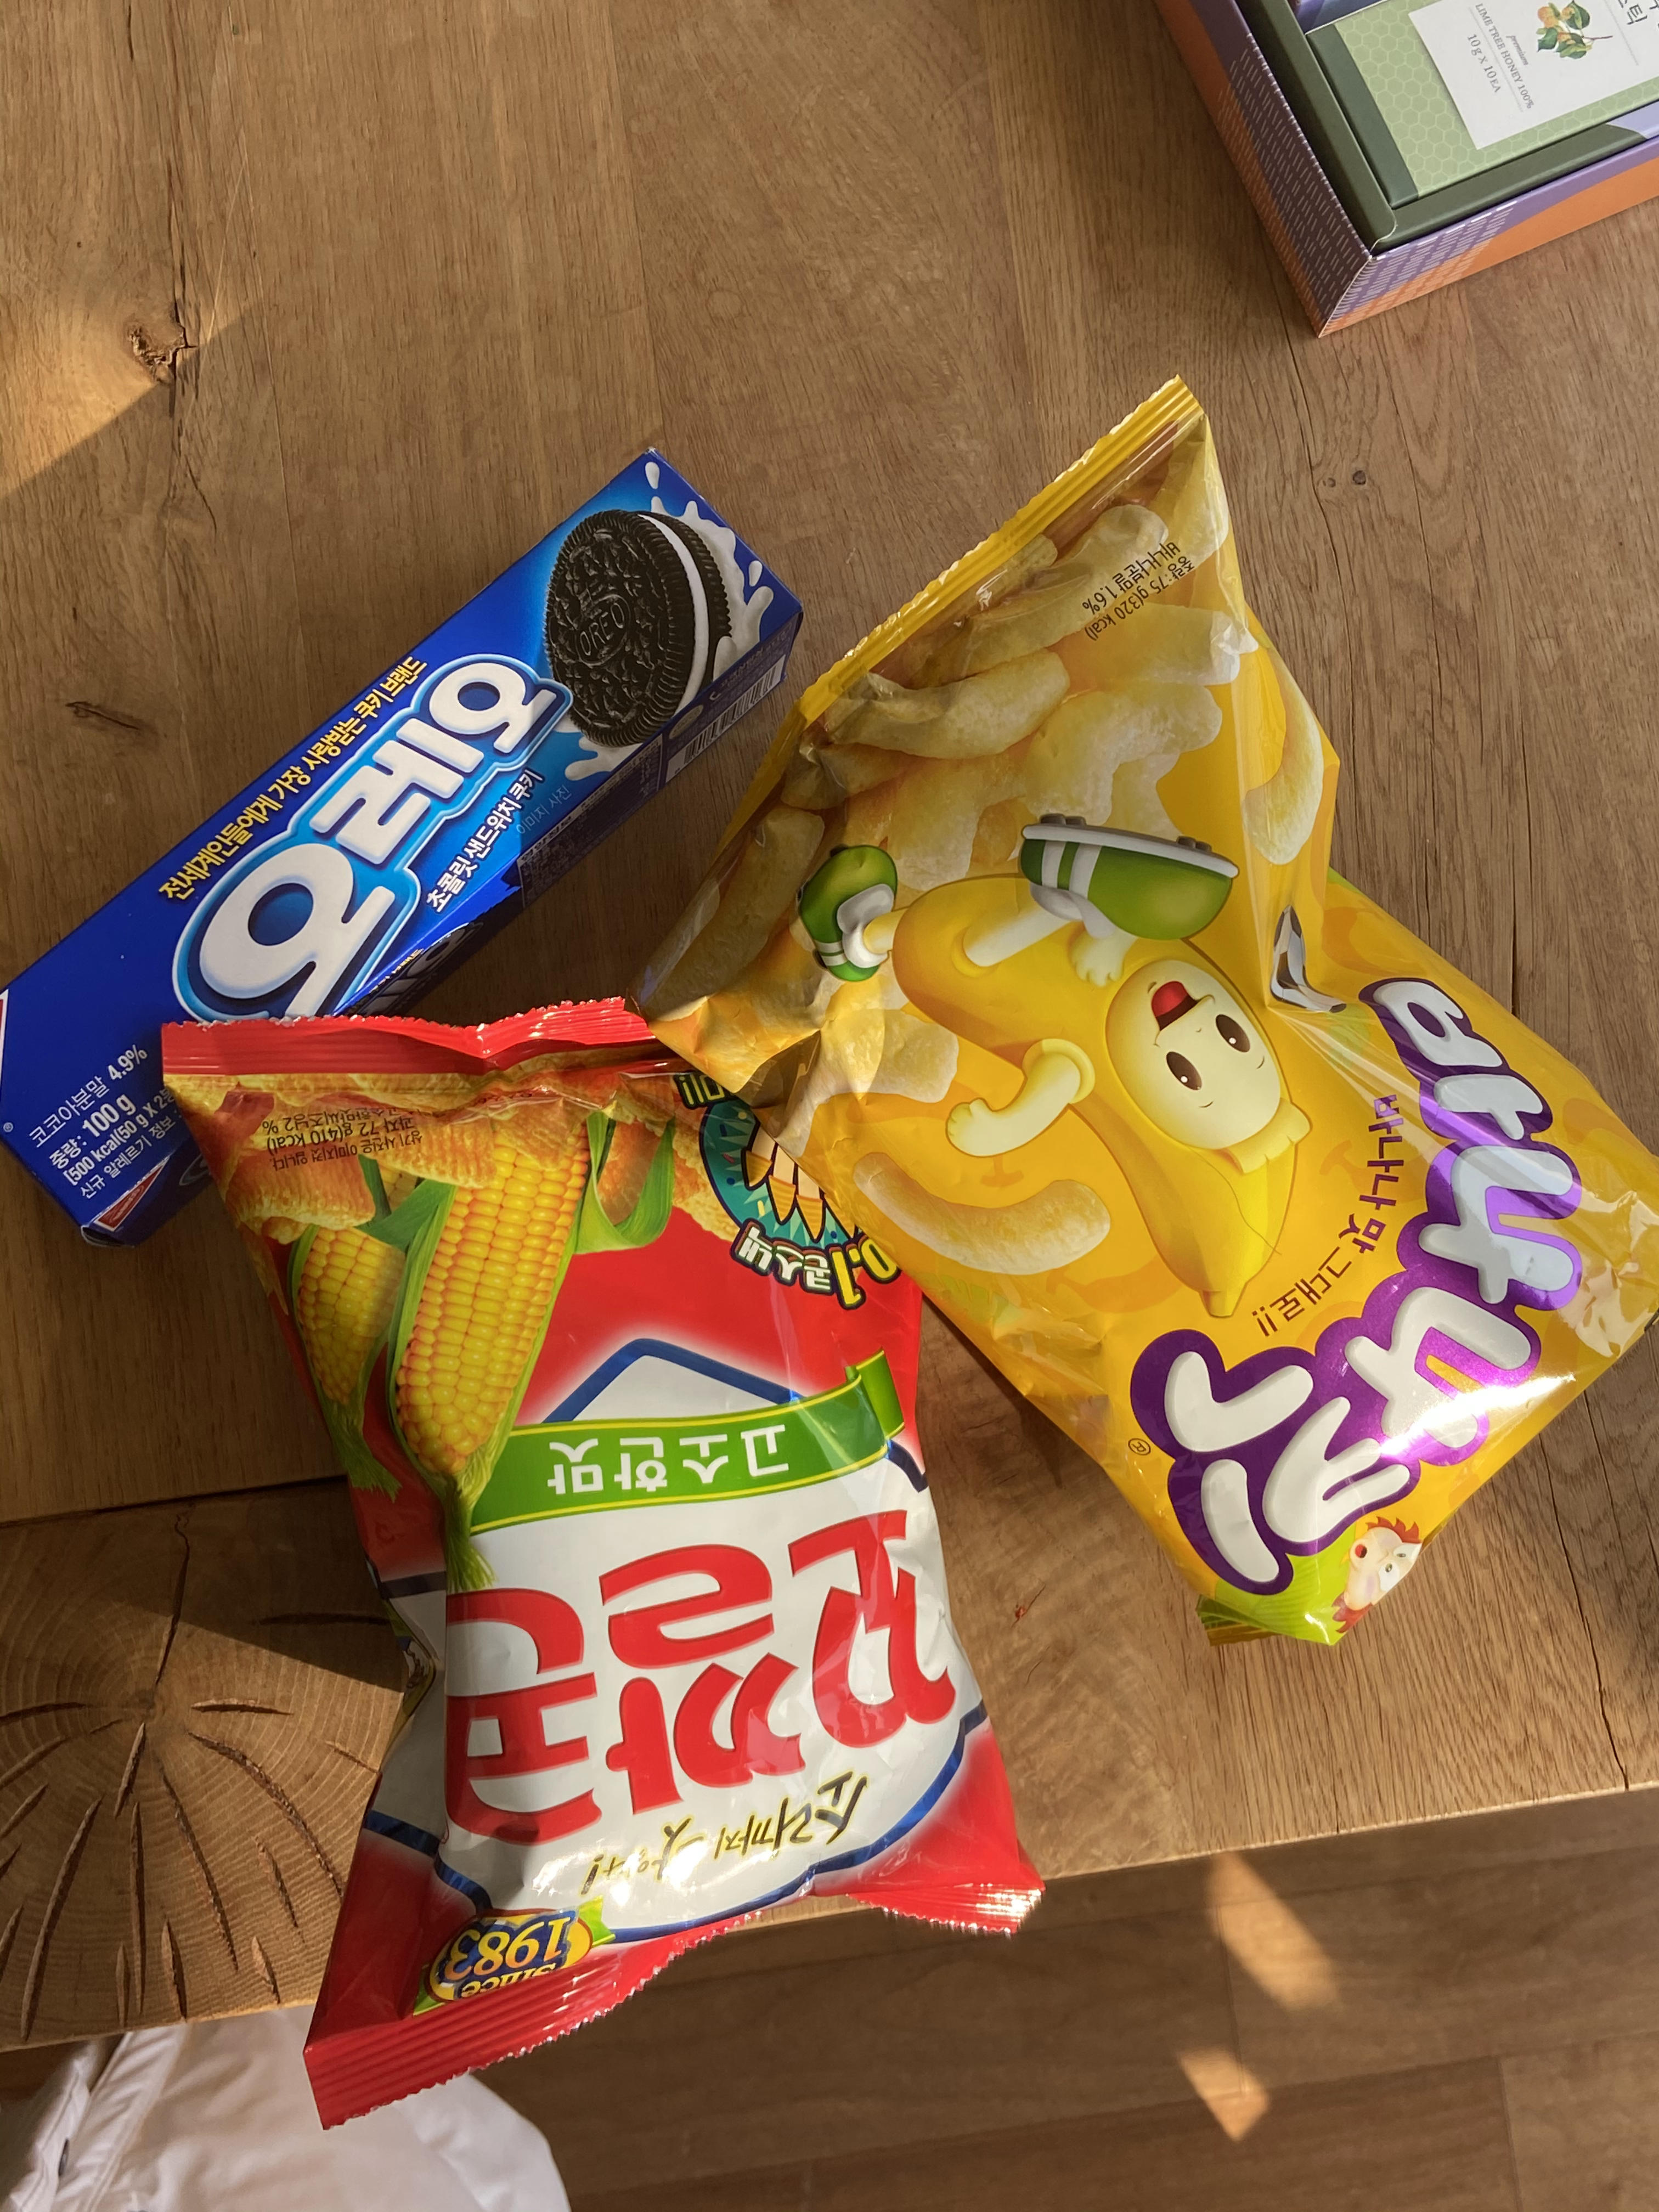banana: (626, 359, 1659, 1702)
ggoggalcon: (113, 972, 1091, 2149)
oreo: (0, 421, 817, 1282)
